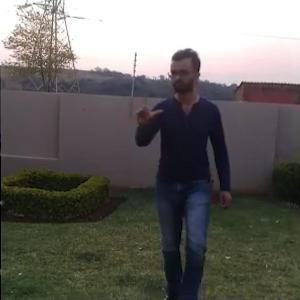land_hand: (132, 88, 161, 127)
